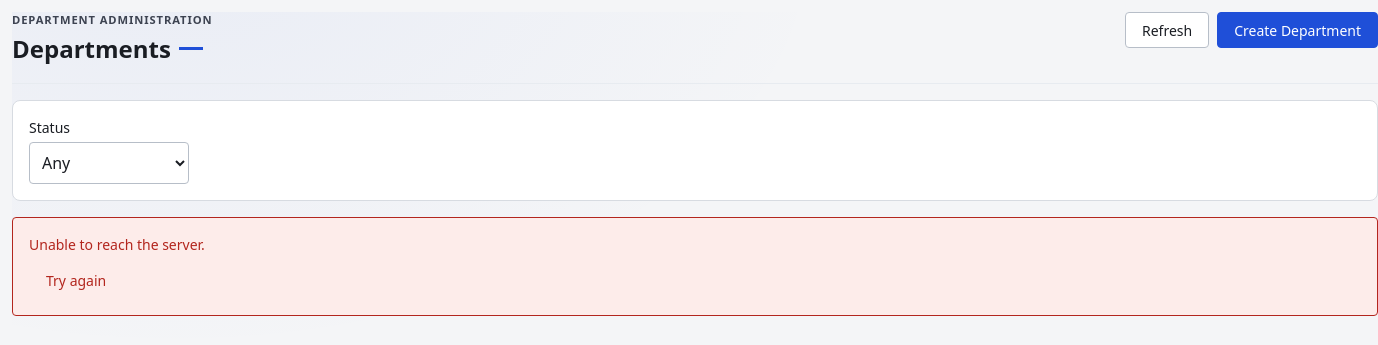
Test case: DepartmentListPage › shows an error state with a working retry
Check: the message shows "reach the server", box left=29, top=235, right=205, bottom=254
Click the button "Try again": click(76, 281) left=29, top=263, right=123, bottom=299
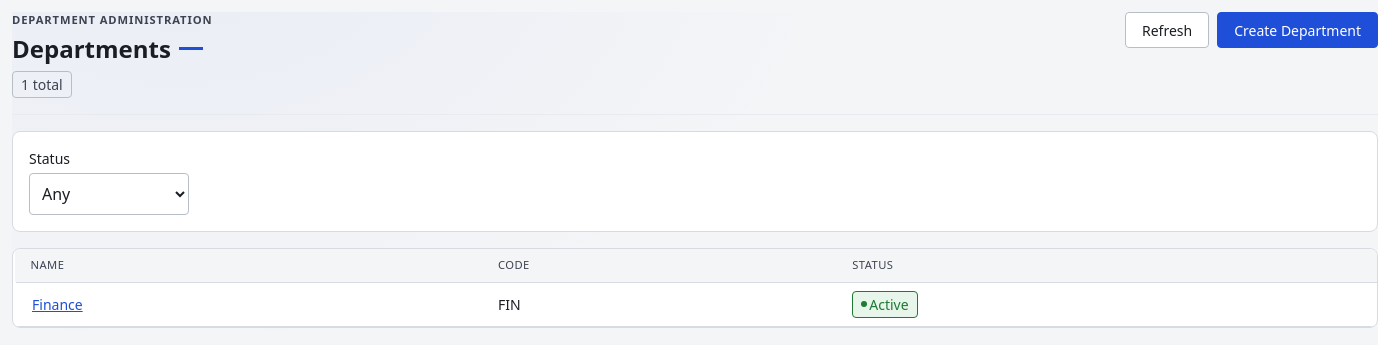
Check: the link "Finance" is shown, box left=32, top=295, right=83, bottom=314
